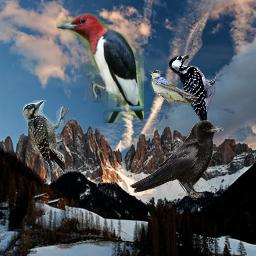Crow: (129, 120, 224, 198)
Swallow: (149, 70, 198, 107)
Woodpecker: (56, 13, 144, 123), (168, 52, 216, 144), (22, 100, 69, 174)
